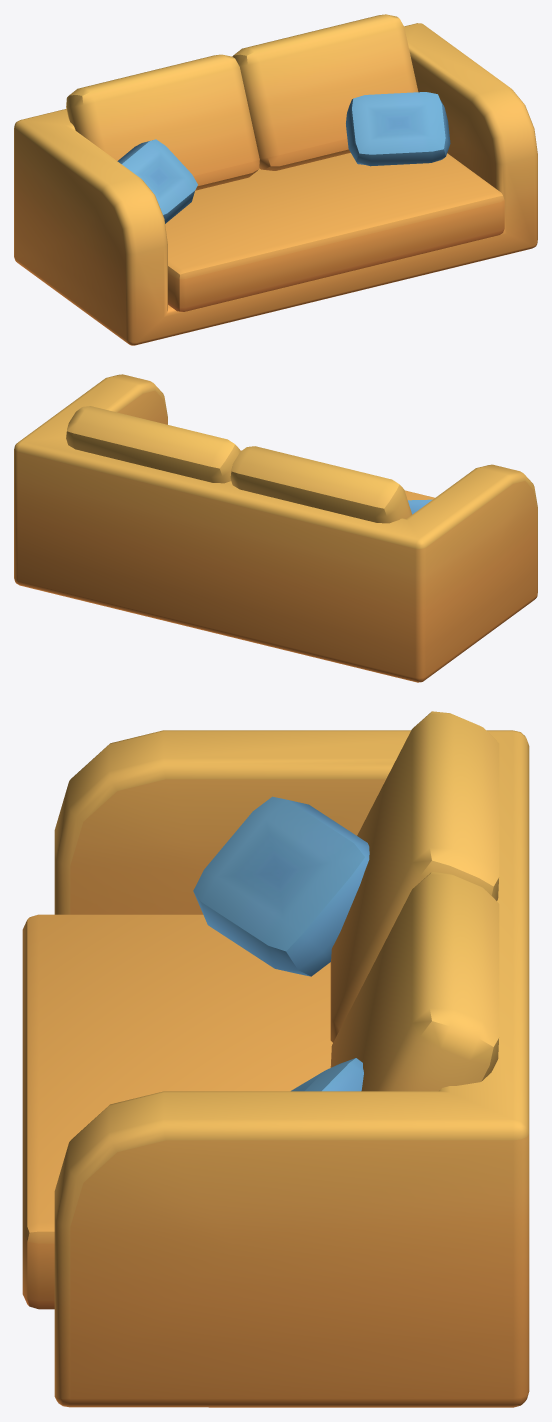
Rendered from kkf.couch_pillows.glb.
3 renders of one model, top to bottom at view 1: azimuth 30°, elevation 25°; view 2: azimuth 150°, elevation 25°; view 3: azimuth 270°, elevation 25°, orthographic. The views are drawn at different scales.
Visible parts, largest first — view 1: couch_pillows; view 2: couch_pillows; view 3: couch_pillows.
Part boxes in pixels (x1=…): couch_pillows: x1=14, y1=14, x2=537, y2=345; couch_pillows: x1=14, y1=374, x2=537, y2=682; couch_pillows: x1=22, y1=711, x2=529, y2=1407.
Size of the model in its own units: 2.15 by 0.8757 by 1.14.
Materials: 1 (1 with a texture image).
